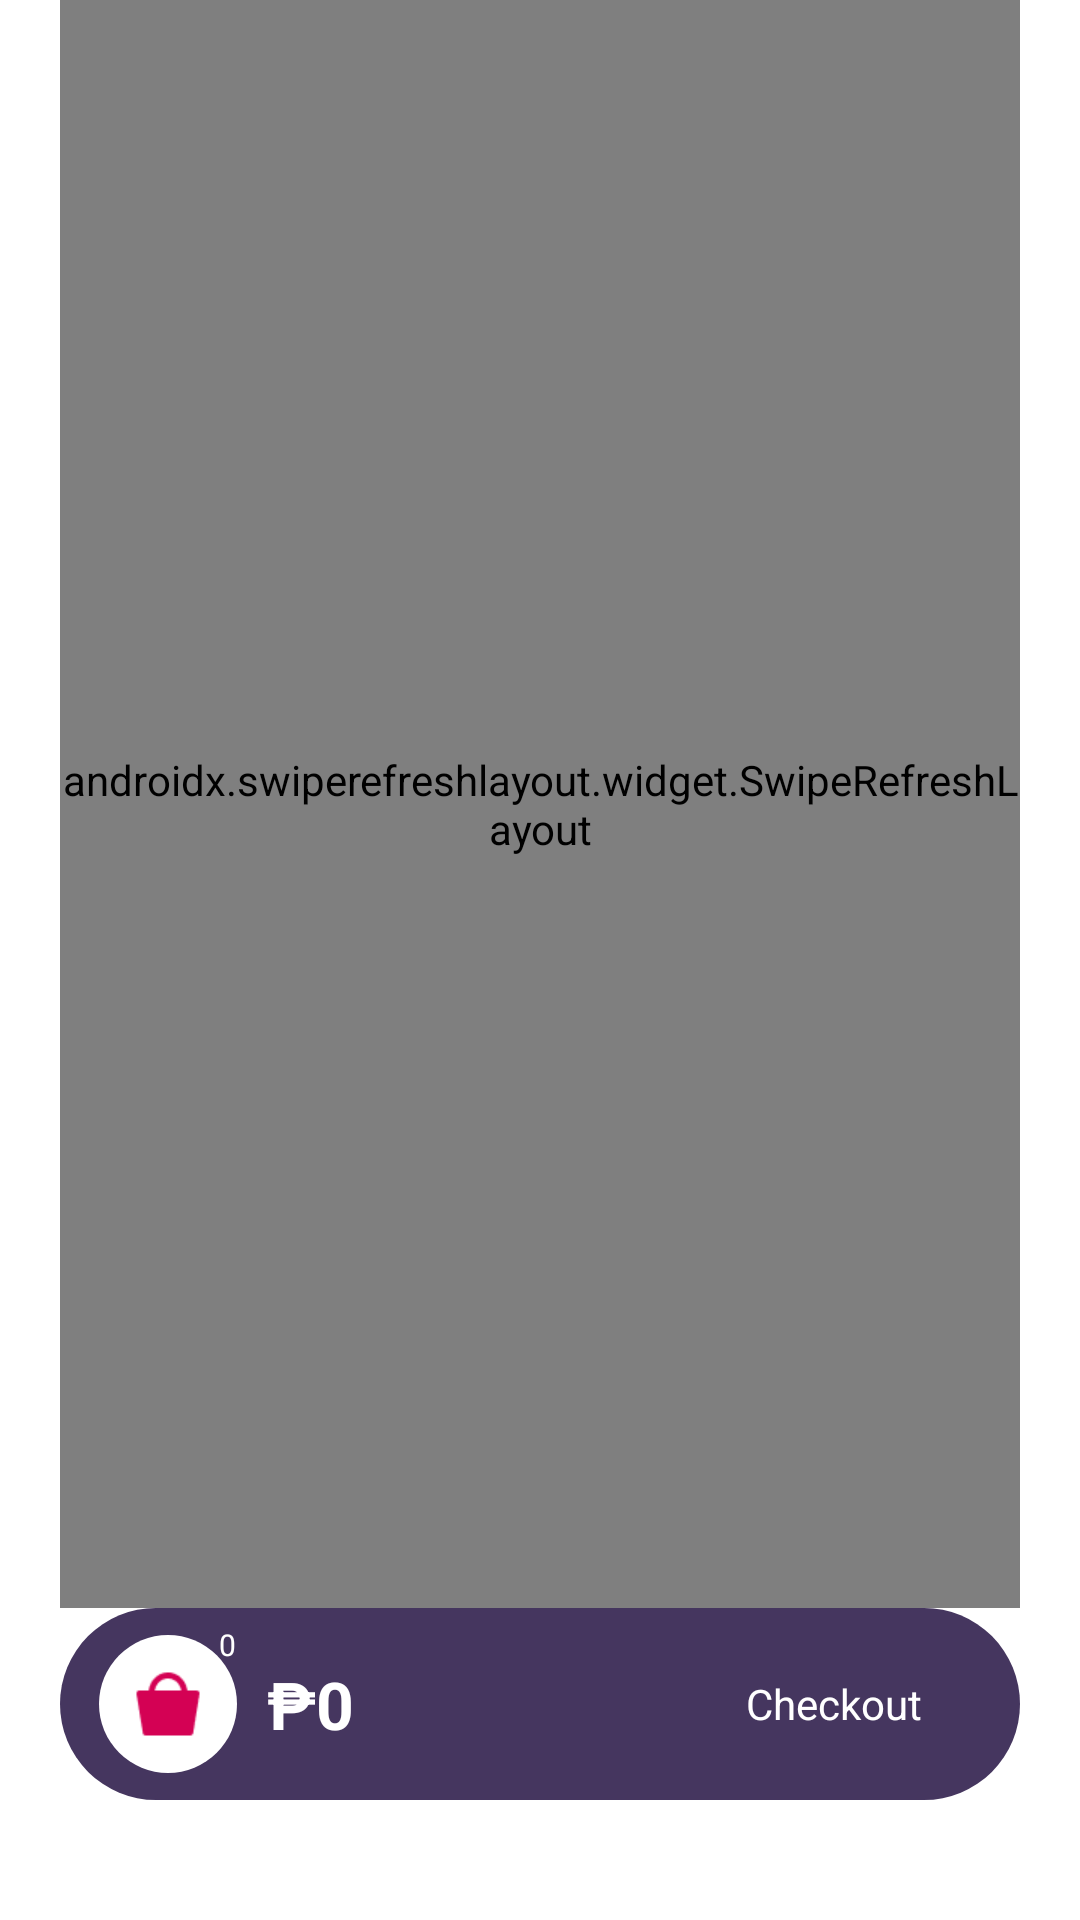

Screen size 1080w x 1920h. Icon name, then its center in pixels as (x,y):
cart: (168,1704)
